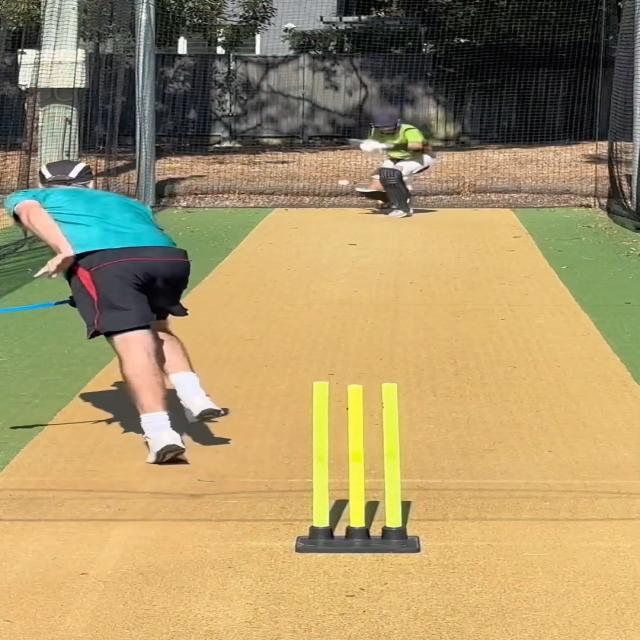ball: (337, 178, 350, 186)
stump: (295, 380, 422, 554)
